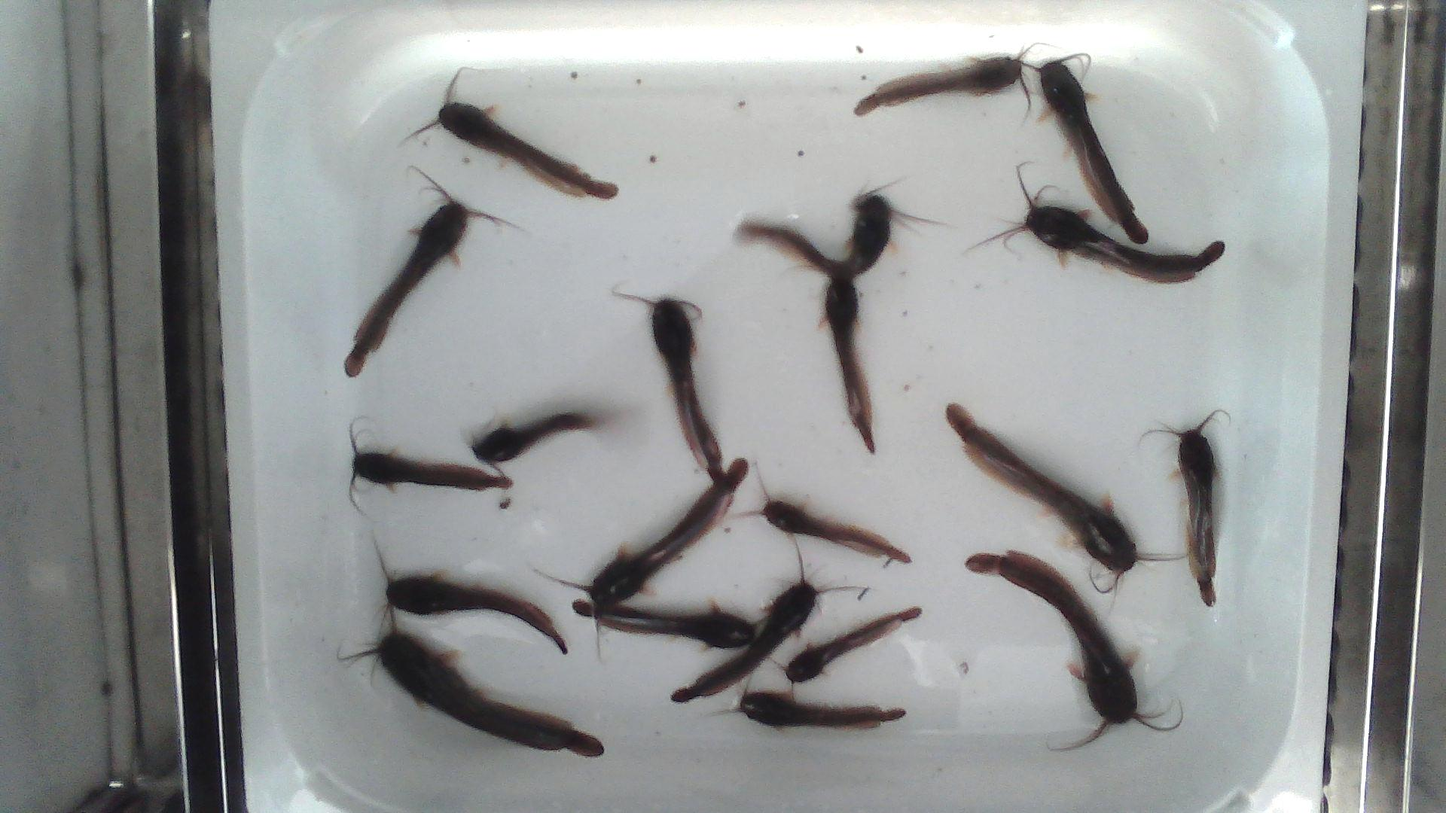lele: (947, 404, 1142, 575), (967, 553, 1136, 723), (378, 631, 603, 756), (588, 459, 746, 617), (346, 202, 468, 376), (1039, 61, 1147, 242), (674, 580, 816, 701), (439, 102, 616, 199), (742, 193, 918, 282), (388, 575, 567, 652), (1025, 206, 1219, 272), (651, 298, 722, 476), (822, 273, 880, 456), (785, 607, 920, 683), (855, 57, 1022, 115), (762, 499, 911, 562), (1176, 416, 1216, 605), (596, 606, 755, 648), (354, 449, 510, 489), (471, 413, 593, 462), (740, 692, 905, 727)
